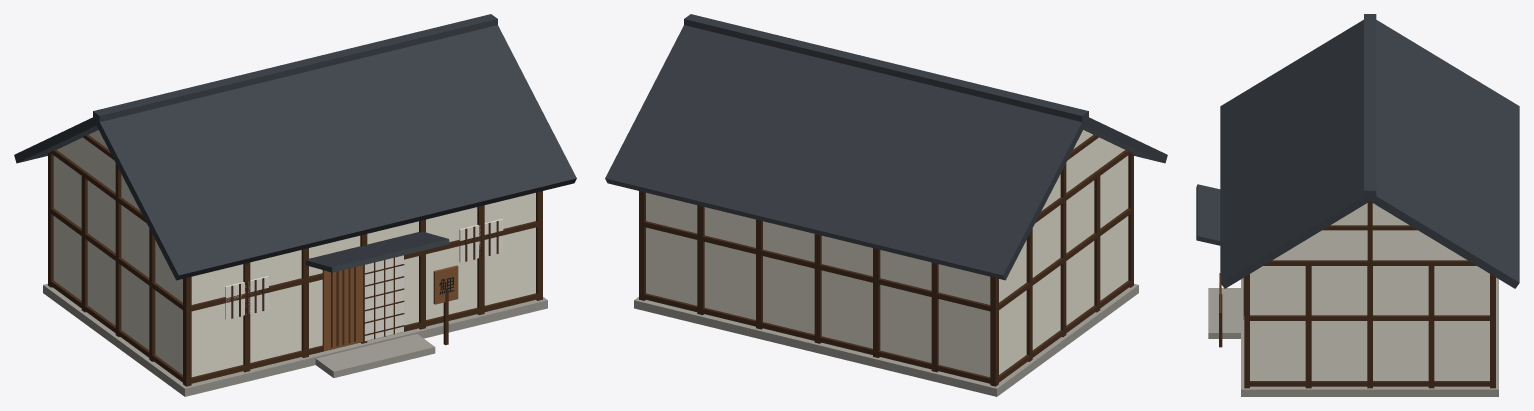
The model's file is farmhouse.glb.
3 renders of one model, left to right at view 1: azimuth 30°, elevation 25°; view 2: azimuth 150°, elevation 25°; view 3: azimuth 270°, elevation 25°, orthographic. The views are drawn at different scales.
Parts seen in each view (by area): view 1: Roof.001, Walls, Timber, Plinth, Ridge, EntryDoor, ShojiDoor, Step, Awning, Gable.001, Roof, Window.001 (+4 smaller); view 2: Roof, Walls, Timber, Plinth, Ridge, Gable.001, Roof.001; view 3: Roof, Roof.001, Walls, Timber, Gable, Plinth, Ridge, Step, Awning.
Boxes of the visible parts, bbox=[...] form: Roof.001: bbox=[96, 25, 576, 280]; Walls: bbox=[53, 155, 535, 381]; Timber: bbox=[48, 134, 542, 386]; Plinth: bbox=[43, 283, 547, 396]; Ridge: bbox=[93, 14, 497, 125]; EntryDoor: bbox=[322, 265, 362, 351]; ShojiDoor: bbox=[364, 255, 403, 341]; Step: bbox=[315, 334, 435, 377]; Awning: bbox=[306, 231, 449, 272]; Gable.001: bbox=[57, 130, 140, 210]; Roof: bbox=[14, 117, 98, 163]; Window.001: bbox=[459, 219, 503, 262]; Roof: bbox=[605, 25, 1086, 280]; Walls: bbox=[646, 155, 1128, 381]; Timber: bbox=[639, 134, 1133, 386]; Plinth: bbox=[634, 283, 1138, 396]; Ridge: bbox=[684, 14, 1088, 125]; Gable.001: bbox=[1041, 130, 1124, 210]; Roof.001: bbox=[1083, 116, 1167, 163]; Roof: bbox=[1368, 20, 1519, 288]; Roof.001: bbox=[1220, 19, 1371, 288]; Walls: bbox=[1250, 266, 1489, 386]; Timber: bbox=[1244, 201, 1495, 388]; Gable: bbox=[1273, 203, 1466, 260]; Plinth: bbox=[1241, 277, 1498, 396]; Ridge: bbox=[1364, 14, 1376, 199]; Step: bbox=[1208, 288, 1240, 338]; Awning: bbox=[1196, 184, 1220, 245].
Size of the model in its own units: 10.2 by 5.77 by 7.9.
